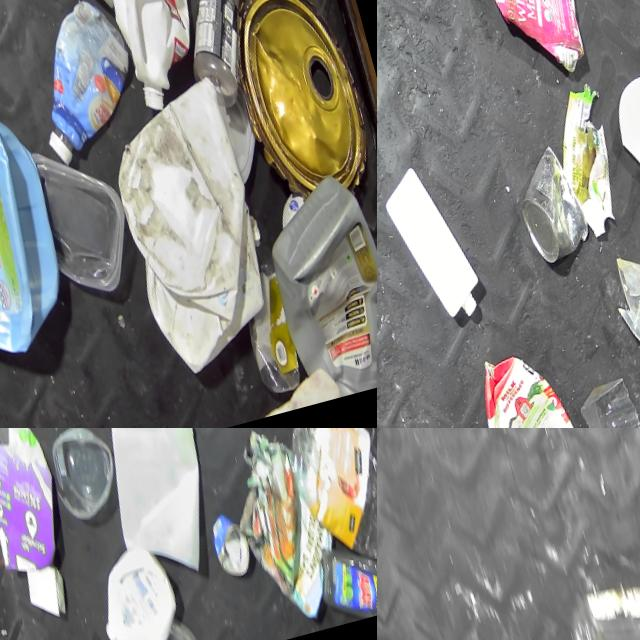can: (507, 140, 594, 266), (197, 492, 262, 594)
milk_jug: (95, 74, 278, 340), (128, 197, 287, 382), (377, 156, 488, 332), (83, 0, 220, 116)
non_white_jug: (250, 166, 377, 405), (0, 96, 82, 373), (468, 334, 589, 428)
plastic_bottle: (218, 210, 308, 398), (269, 428, 377, 579), (159, 0, 268, 116), (554, 559, 640, 640), (317, 534, 377, 625)
